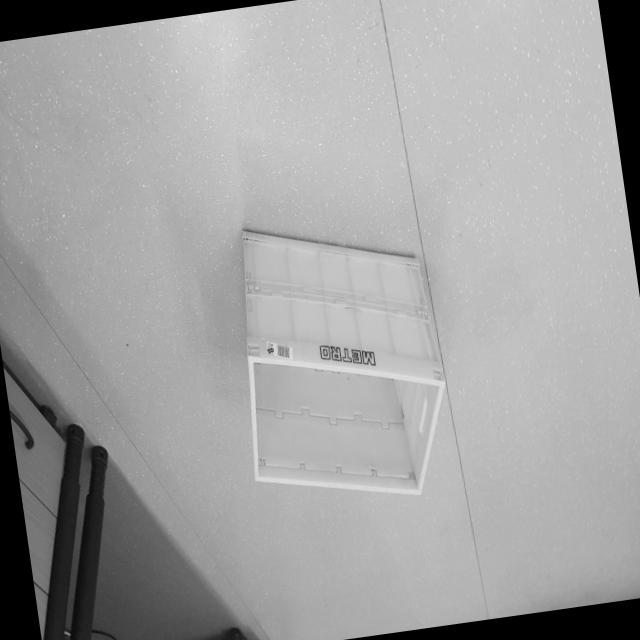box: (204, 188, 479, 536)
